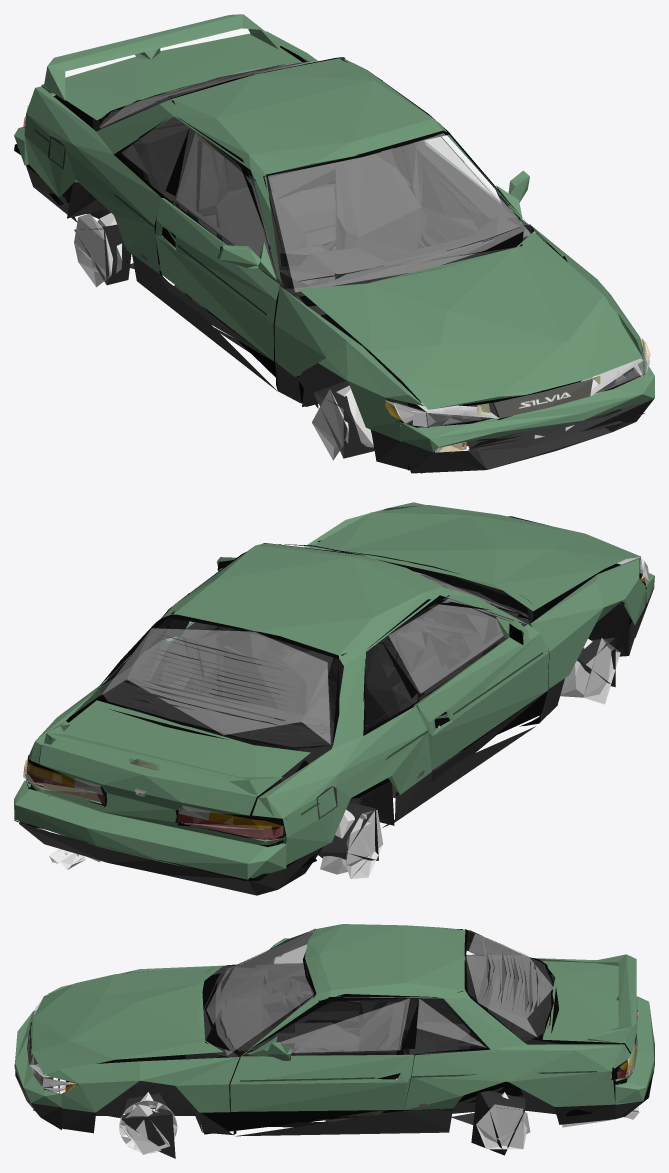
The model's file is voiture_s13.glb.
3 views of the same model, one above another, from view 1: azimuth 30°, elevation 25°; view 2: azimuth 150°, elevation 25°; view 3: azimuth 270°, elevation 25° (orthographic). The views are drawn at different scales.
Visible parts, largest first — view 1: 72_T, 1019, 36_T, 32_T003, 1039, 4001, 34_T, Cylinder001, 1029, 27_T, 238_T, 24002 (+1 smaller); view 2: 72_T, 1019, 37_T, 32_T003, 1039, 36_T, 4001, 34_T, Cylinder001, 26_T003, 26_T007, 24002; view 3: 72_T, 1019, 36_T, 32_T003, 37_T, 1039, 4001, Cylinder001, 34_T, 53010, 53002, 159001 (+1 smaller).
Boxes of the visible parts, x1,y1,x2,y2 form: 72_T: (14,14,654,452); 1019: (99,60,534,352); 36_T: (176,132,530,291); 32_T003: (26,119,653,473); 1039: (27,46,644,470); 4001: (74,213,373,460); 34_T: (53,57,529,282); Cylinder001: (74,224,374,458); 1029: (385,338,649,452); 27_T: (396,343,647,426); 238_T: (494,379,592,418); 24002: (24,129,645,427); 72_T: (14,502,654,879); 1019: (99,550,533,798); 37_T: (101,628,330,744); 32_T003: (19,587,654,895); 1039: (26,516,646,867); 36_T: (187,545,521,693); 4001: (320,638,620,878); 34_T: (27,543,490,839); Cylinder001: (318,637,615,860); 26_T003: (23,767,283,839); 26_T007: (24,760,281,829); 24002: (25,563,647,838); 72_T: (14,924,654,1112); 1019: (203,931,551,1127); 36_T: (206,930,409,1055); 32_T003: (15,974,654,1136); 37_T: (417,933,553,1047); 1039: (30,929,636,1134); 4001: (120,1092,530,1154); Cylinder001: (121,1090,525,1158); 34_T: (241,928,637,1079); 53010: (14,1065,397,1153); 53002: (240,1071,596,1081); 159001: (230,1072,653,1114).
Size of the model in its own units: 1.9 by 1.2 by 4.5.
Materials: 25 (1 with a texture image).
